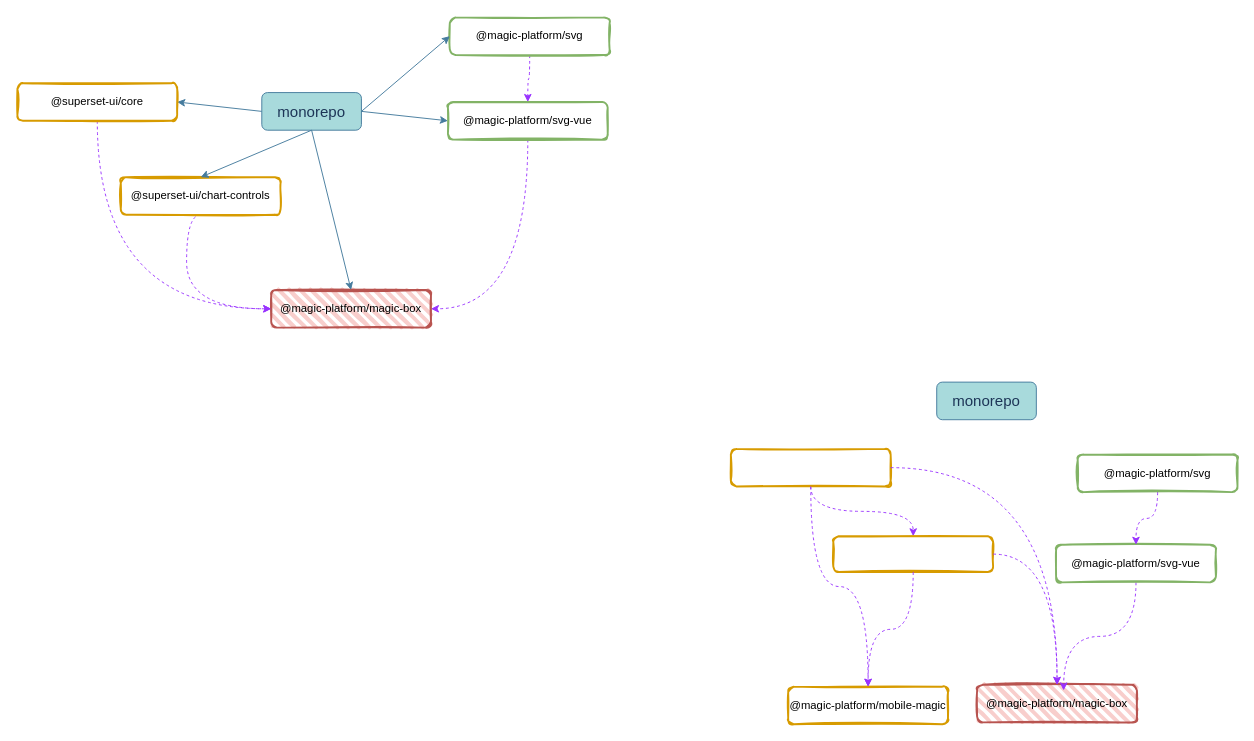
Image size: 1254x741. Some labels were removed from this diagram. Each missing label, with the centre of its shape:
"@magic/shared-component" belongs at (x=913, y=553).
"@magic/shared-utils" belongs at (x=810, y=467).
